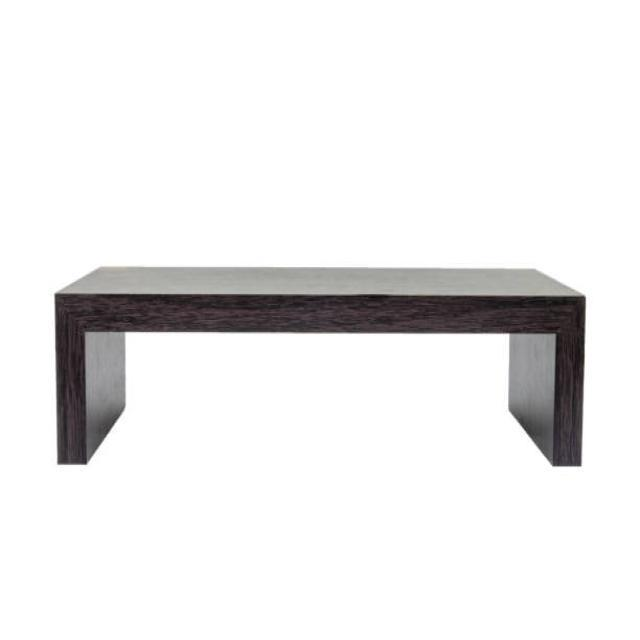table: (53, 264, 586, 468)
